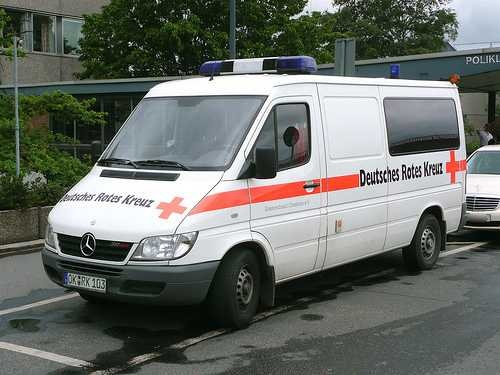Ambulance: (40, 58, 476, 305)
